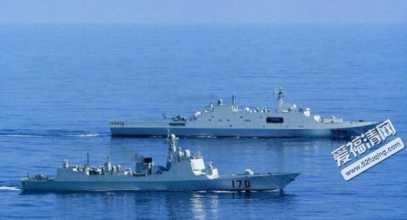warship: (19, 123, 304, 194), (104, 85, 381, 138)
